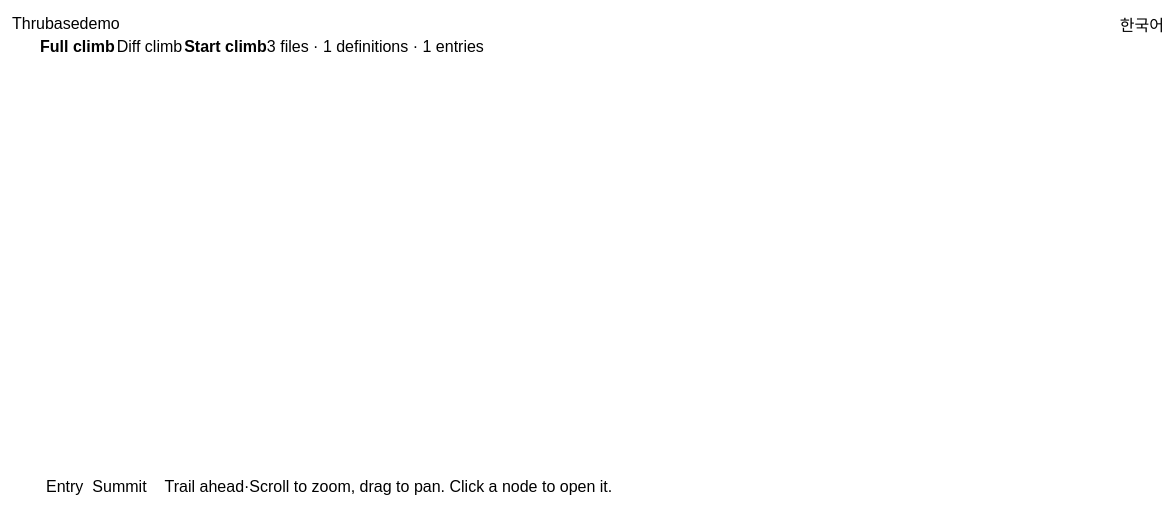
Test: App › skip moves on and is reviewed at the summit
The width and height of the screenshot is (1176, 512).
Click the button "Start climb".
click(226, 47)  # box [184, 38, 267, 56]
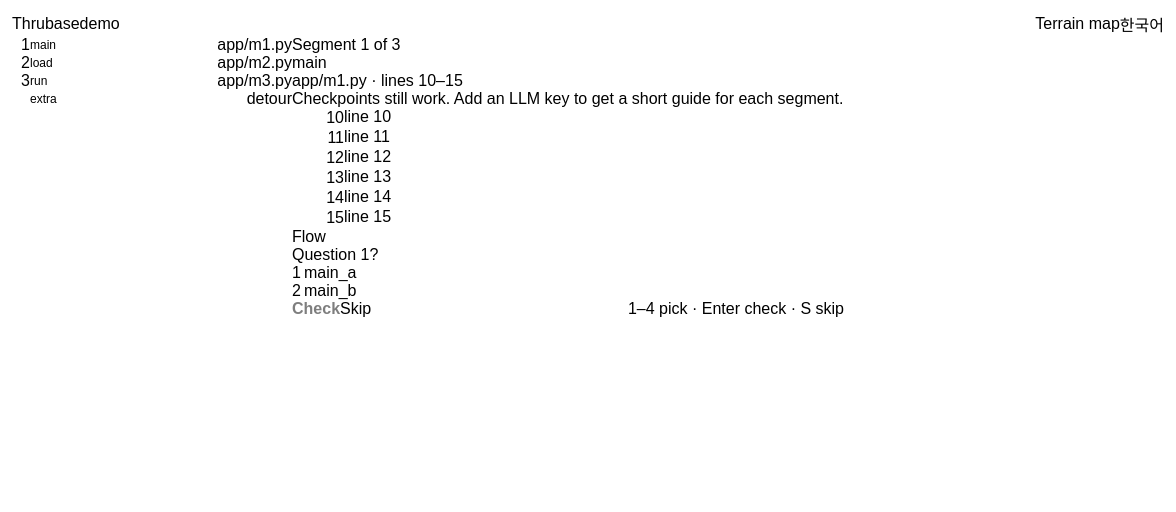
Expected: the text "Question 1?" is shown, [292, 246, 378, 263]
Click the button "Skip".
click(356, 309)  # box [340, 300, 371, 318]
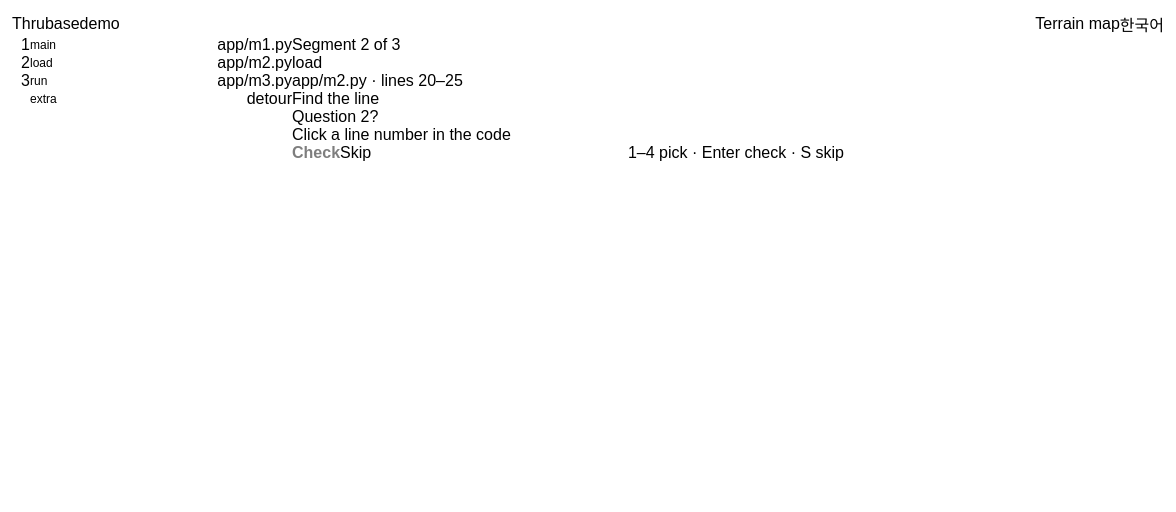
Expected: the text "Question 2?" is shown, [292, 108, 378, 125]
Click the button "Skip".
click(356, 153)  # box [340, 144, 371, 162]
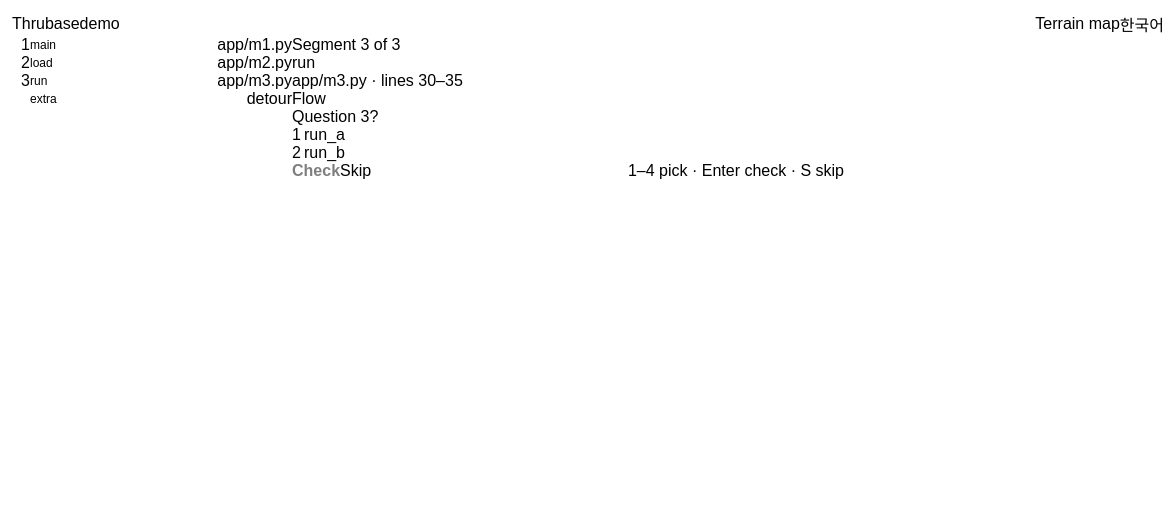
Expected: the text "Question 3?" is shown, [292, 108, 378, 125]
Click the button "Skip".
click(356, 171)  # box [340, 162, 371, 180]
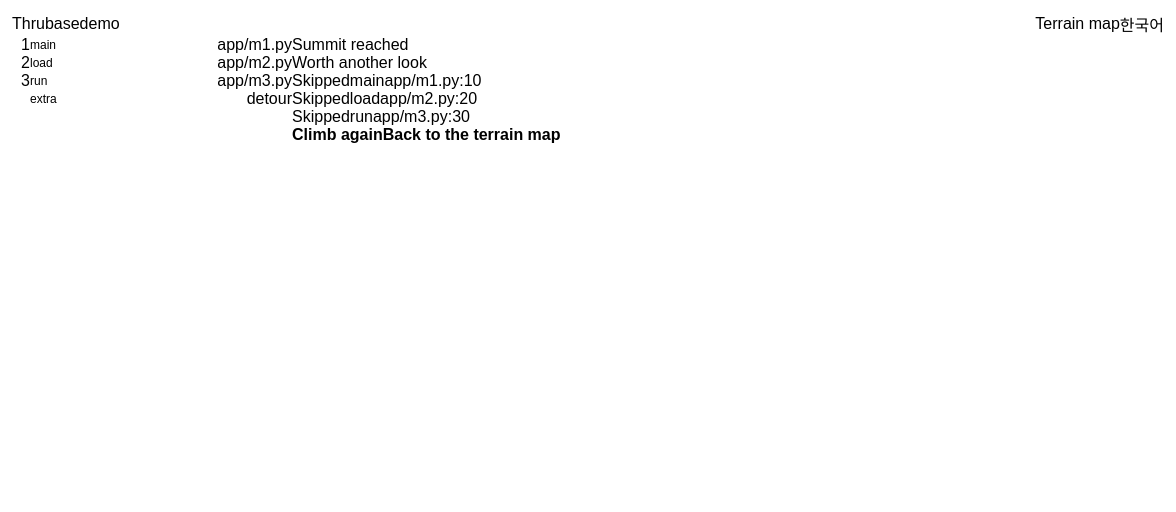
Expected: the heading "Summit reached" is shown, [292, 36, 408, 54]
Expected: the text "Skipped" is shown 3 times, [292, 72, 350, 90]; [292, 90, 350, 108]; [292, 108, 350, 126]
